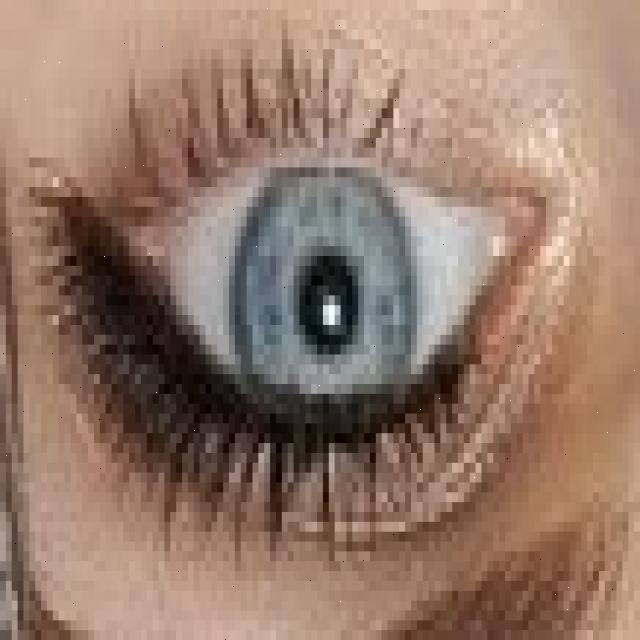Normal: (224, 160, 413, 464)
